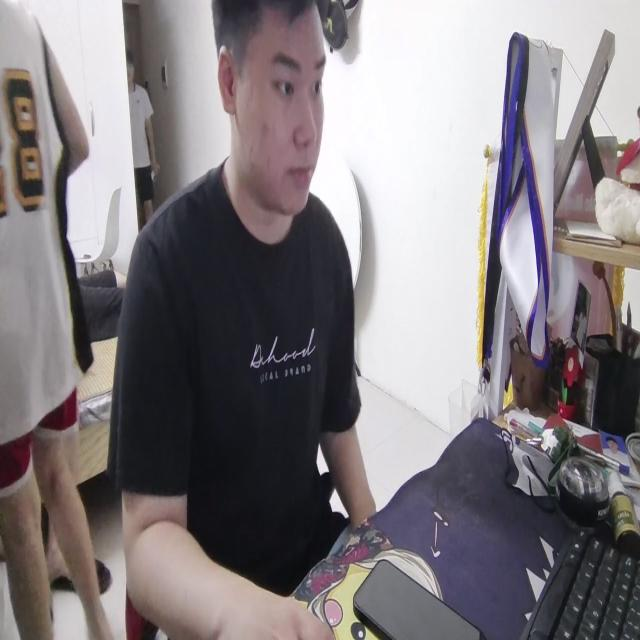extra_person: (0, 0, 111, 640), (125, 48, 157, 248)
phone: (351, 554, 481, 640)
student: (114, 2, 374, 640)
